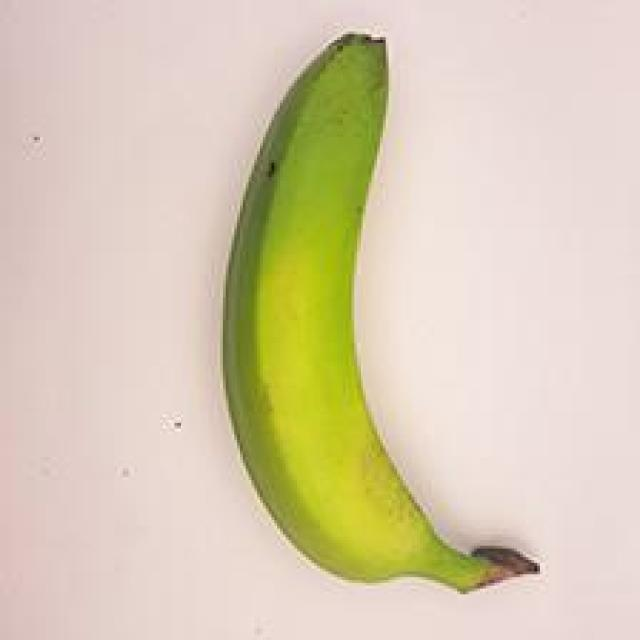Unripe: (187, 0, 551, 614)
